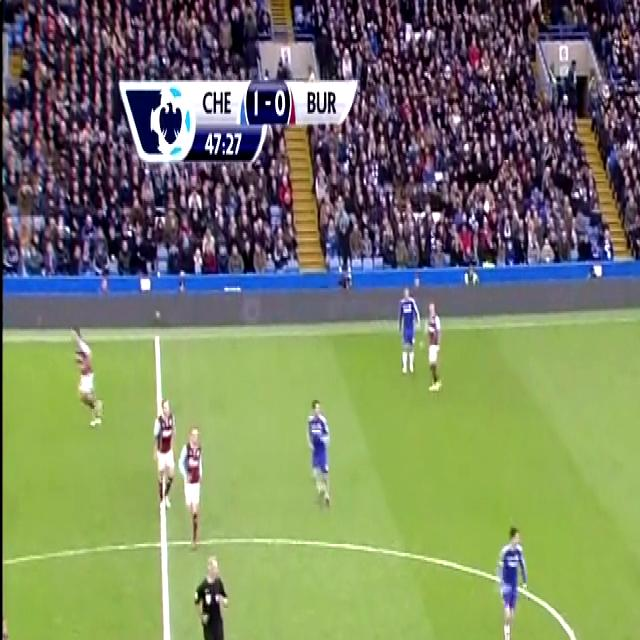referee: (194, 538, 237, 640)
soccer-player: (301, 388, 341, 515), (492, 510, 531, 640), (69, 322, 106, 438), (180, 421, 208, 547), (151, 392, 180, 510), (423, 290, 450, 401), (393, 278, 420, 384), (0, 620, 19, 640)
